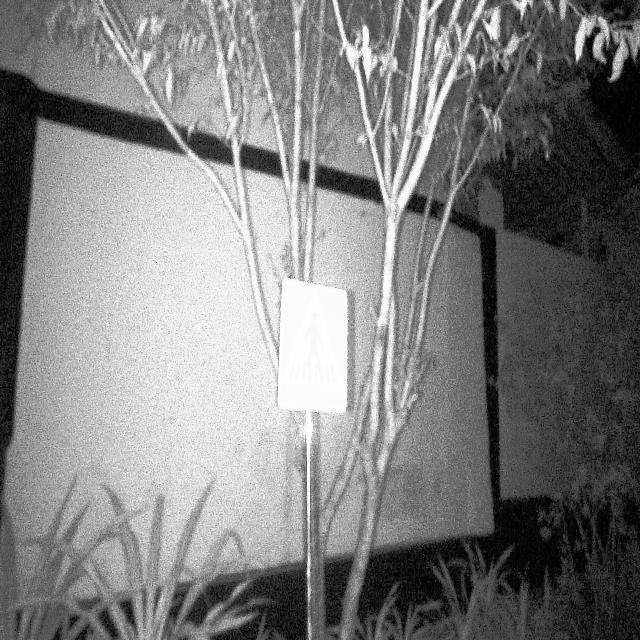Sign: (276, 276, 349, 416)
